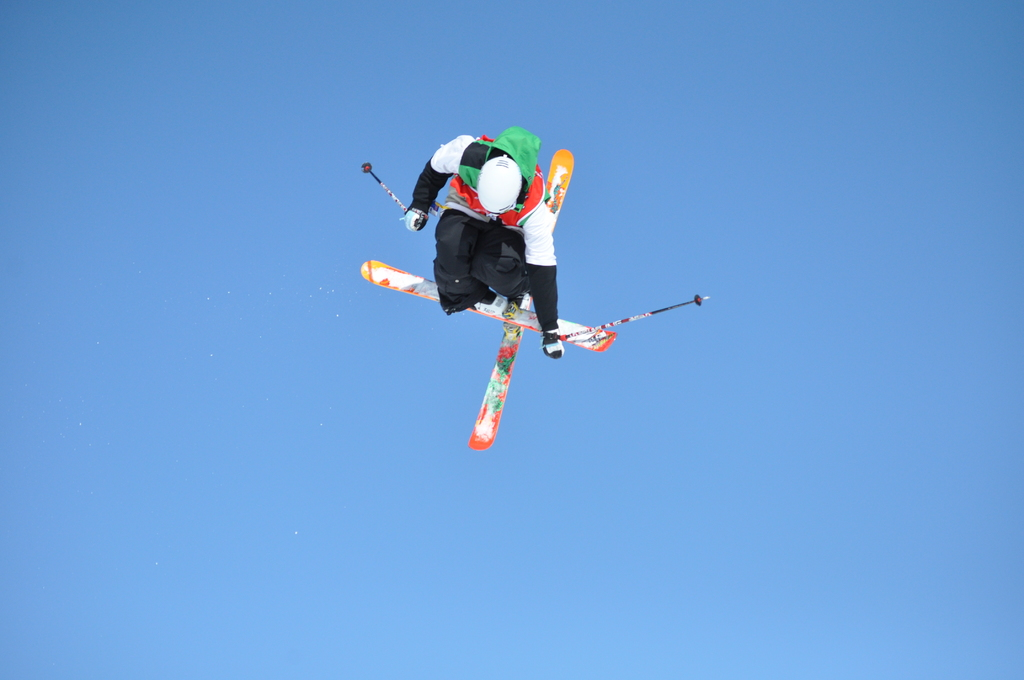Person: (404, 125, 564, 359)
